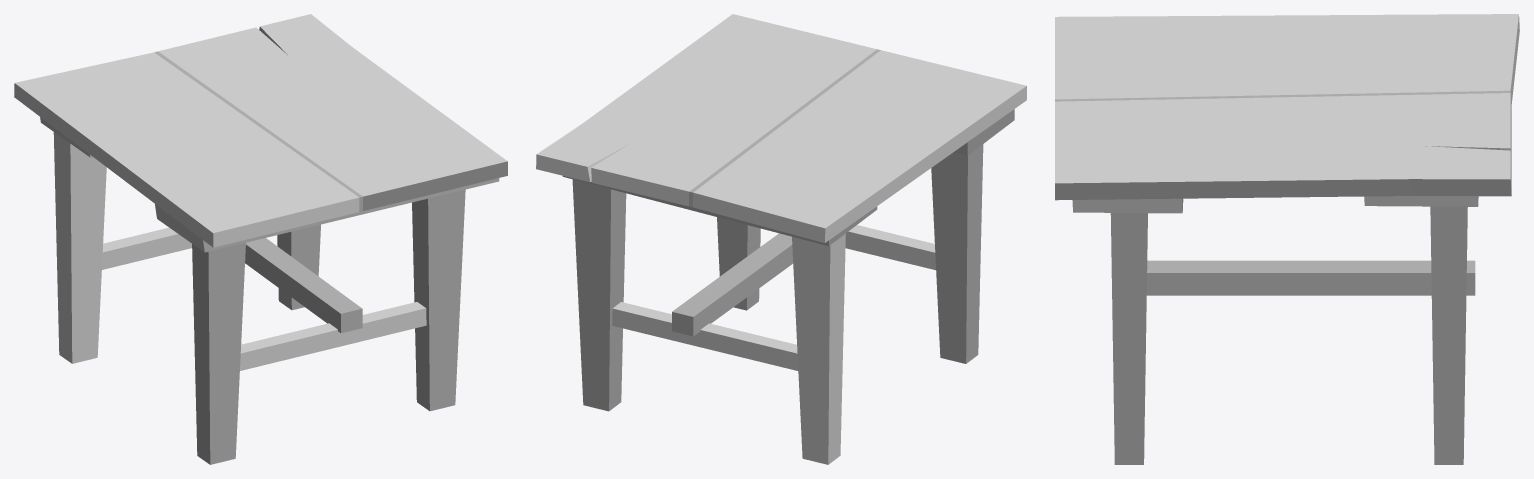
The model's file is PT_Table_02.fbx.
The picture shows the model from 3 angles, left to right: view 1: azimuth 30°, elevation 25°; view 2: azimuth 150°, elevation 25°; view 3: azimuth 270°, elevation 25°; orthographic projection. The views are drawn at different scales.
Visible parts, largest first — view 1: PT_Table_02; view 2: PT_Table_02; view 3: PT_Table_02.
Boxes of the visible parts, bbox=[...] form: PT_Table_02: bbox=[14, 14, 507, 464]; PT_Table_02: bbox=[536, 14, 1026, 464]; PT_Table_02: bbox=[1055, 14, 1519, 464].
Bounding box in the file's own units: 101 × 85.12 × 119.
1 material, 1 textured.
